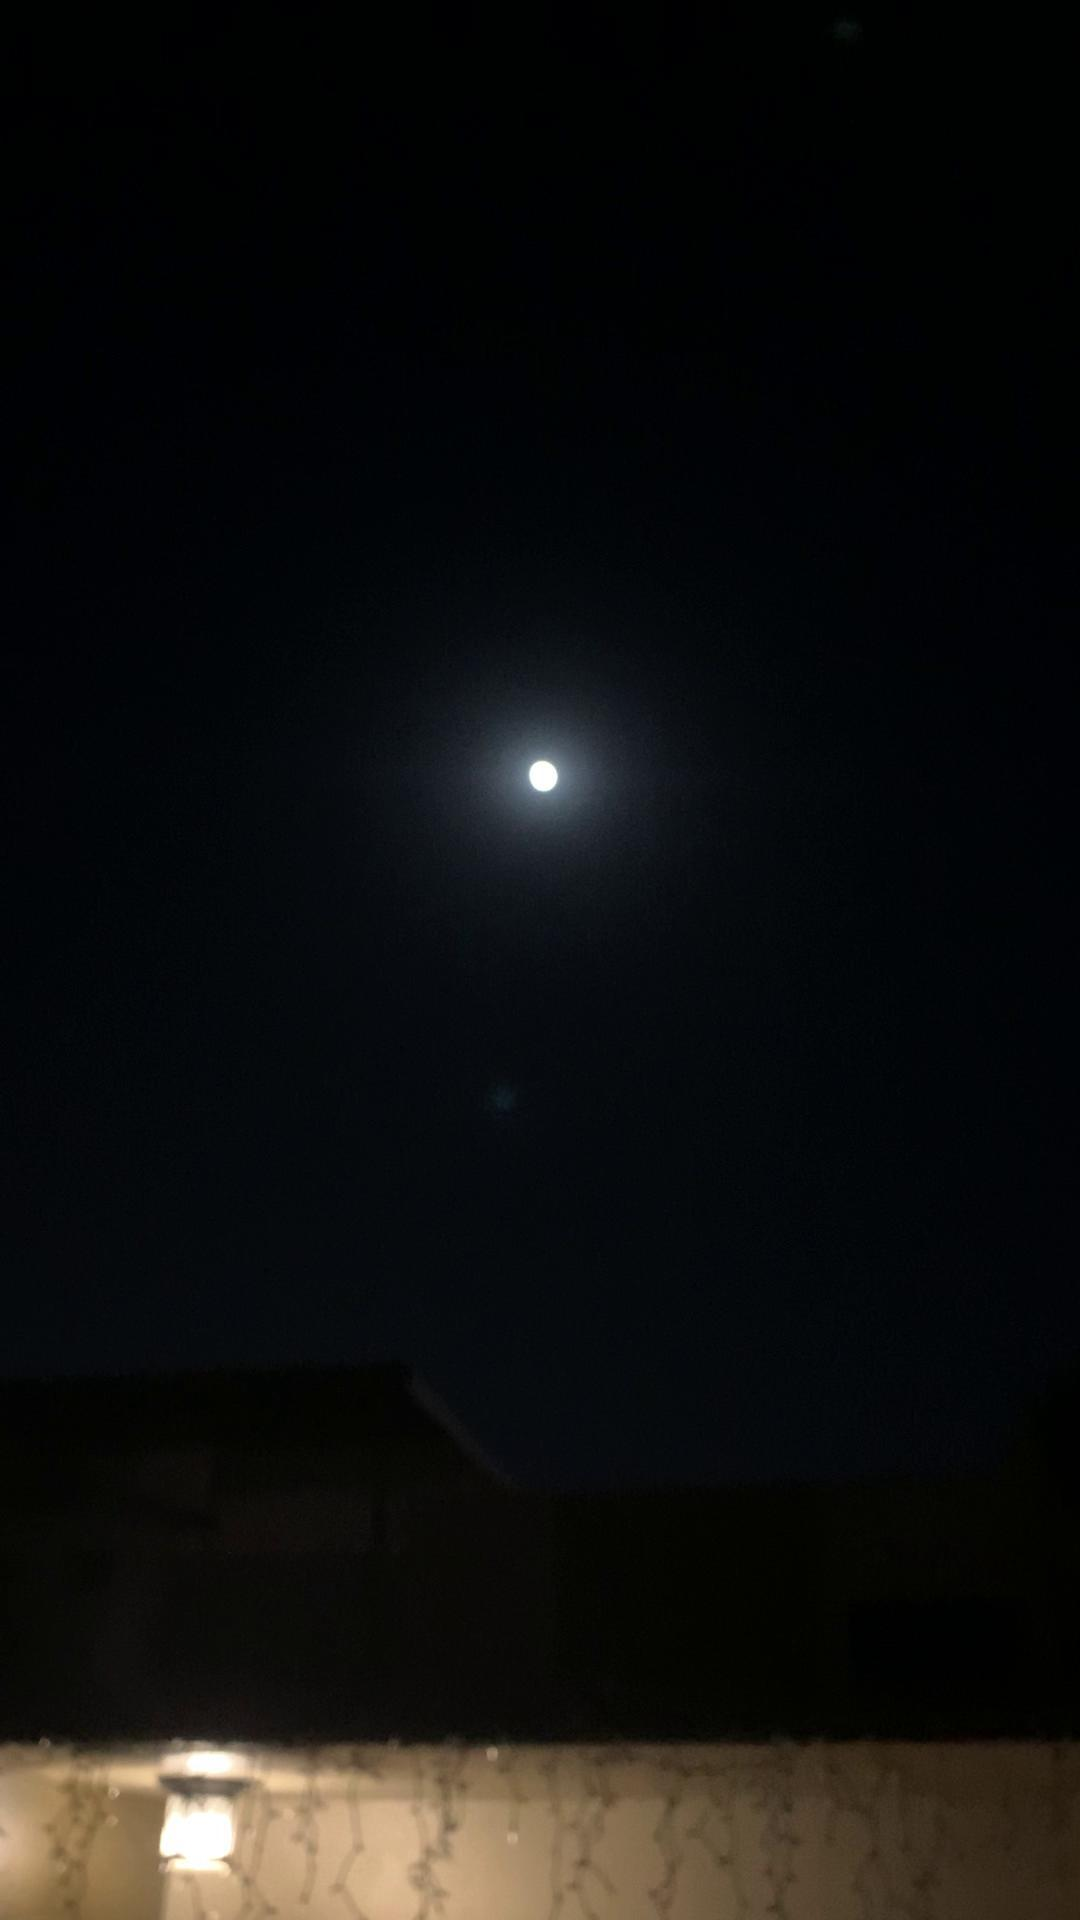moon: (505, 748, 592, 844)
